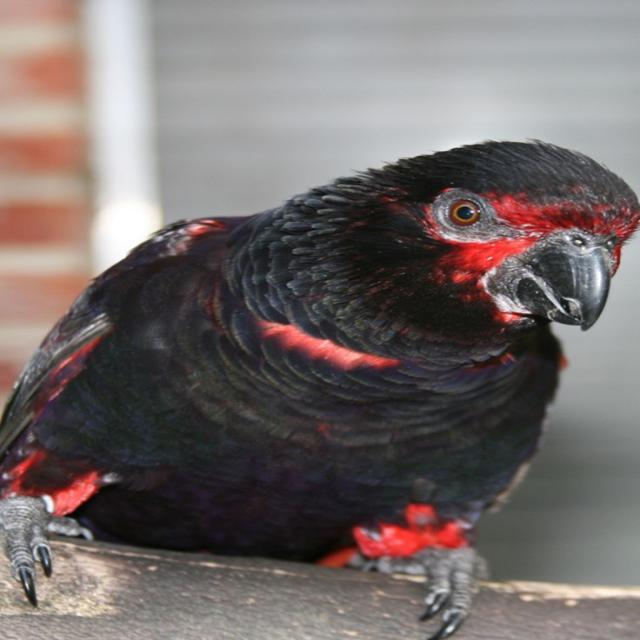Nuri Hitam: (0, 117, 640, 639)
